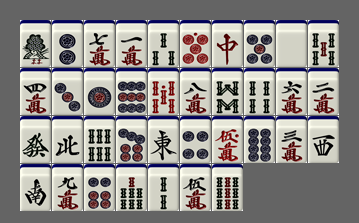0m: (212, 116, 243, 163)
0p: (180, 20, 211, 67)
0s: (148, 68, 179, 115)
1m: (116, 20, 147, 67)
1p: (84, 68, 115, 115)
1s: (20, 20, 51, 67)
1z: (148, 116, 179, 163)
2m: (308, 68, 339, 115)
2p: (52, 20, 83, 67)
2s: (148, 164, 179, 211)
2z: (20, 164, 51, 211)
3m: (276, 116, 307, 163)
3p: (52, 68, 83, 115)
3s: (148, 20, 179, 67)
3z: (308, 116, 339, 163)
4m: (20, 68, 51, 115)
4p: (180, 116, 211, 163)
4s: (244, 68, 275, 115)
4z: (52, 116, 83, 163)
5m: (180, 164, 211, 211)
5p: (244, 20, 275, 67)
5s: (308, 20, 339, 67)
5z: (276, 20, 307, 67)
6m: (276, 68, 307, 115)
6p: (84, 164, 115, 211)
6s: (84, 116, 115, 163)
6z: (20, 116, 51, 163)
7m: (84, 20, 115, 67)
7p: (116, 116, 147, 163)
7s: (116, 164, 147, 211)
7z: (212, 20, 243, 67)
8m: (180, 68, 211, 115)
8p: (244, 116, 275, 163)
8s: (212, 68, 243, 115)
9m: (52, 164, 83, 211)
9p: (116, 68, 147, 115)
9s: (212, 164, 243, 211)
